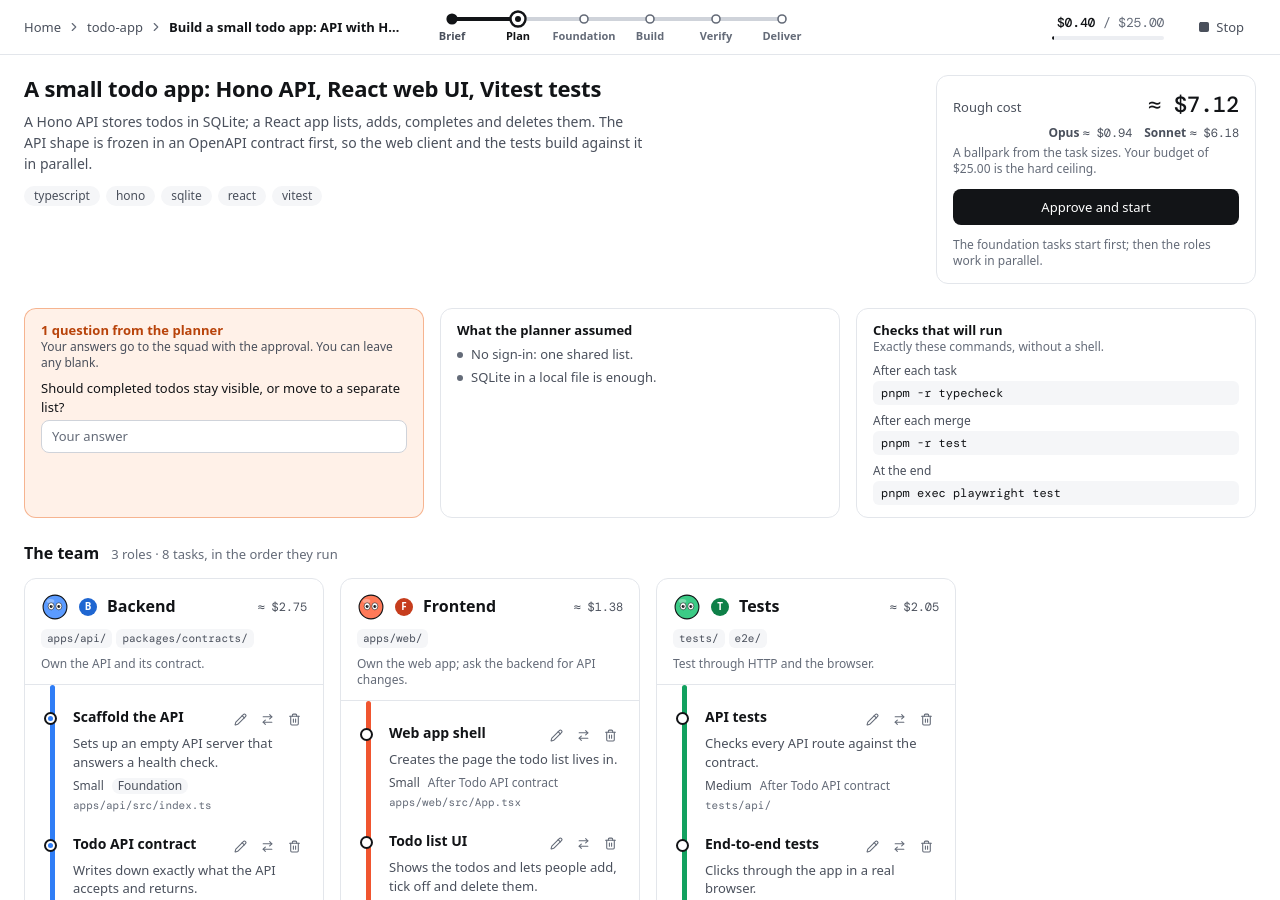
Test: Board › moves a task only to a role that owns its paths, and says why not
Click the button named "Move Todo list UI to another role" at (584, 844), box [571, 831, 596, 856]
(page scrolled)
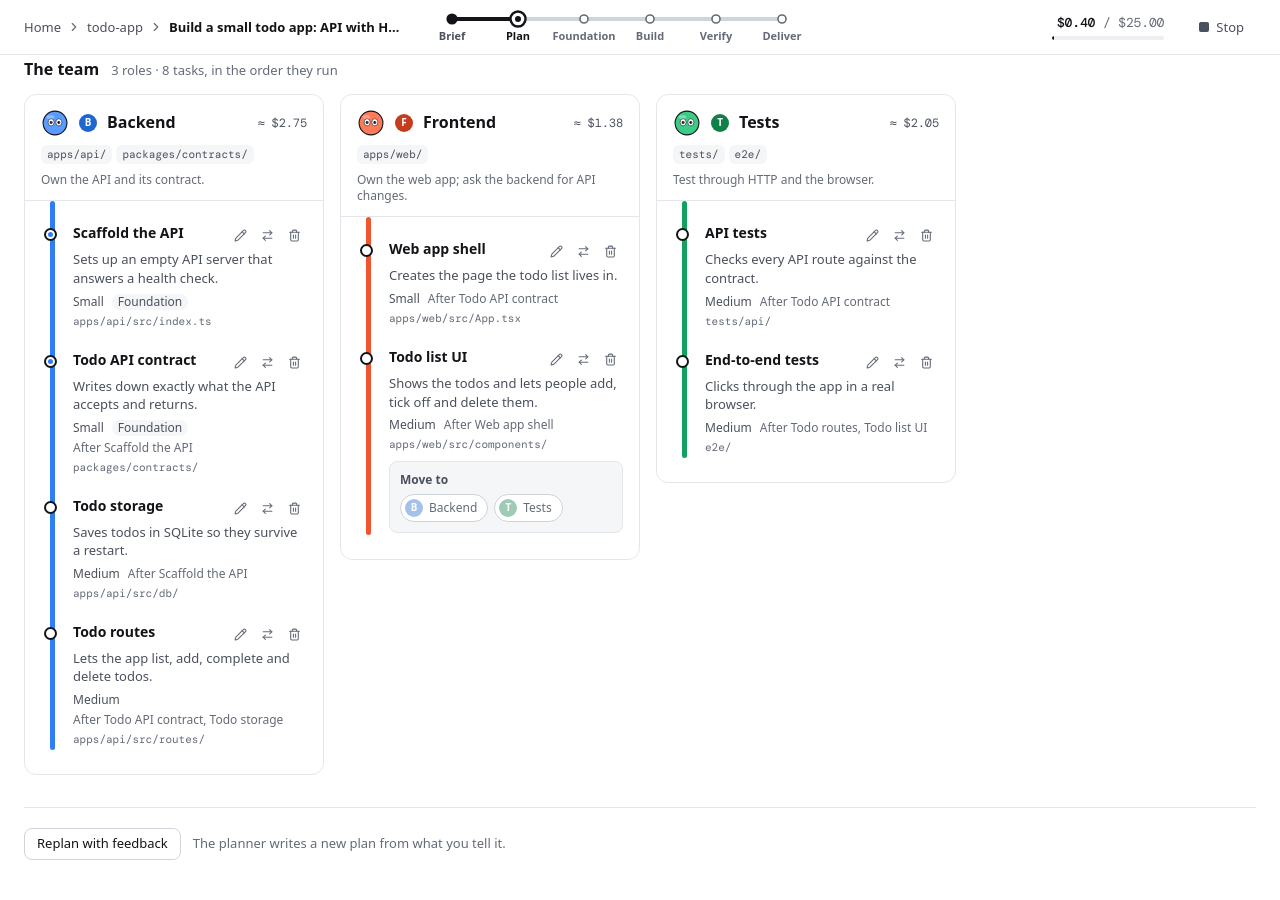
Click the button "B Backend" at (444, 508), box [400, 494, 488, 522]
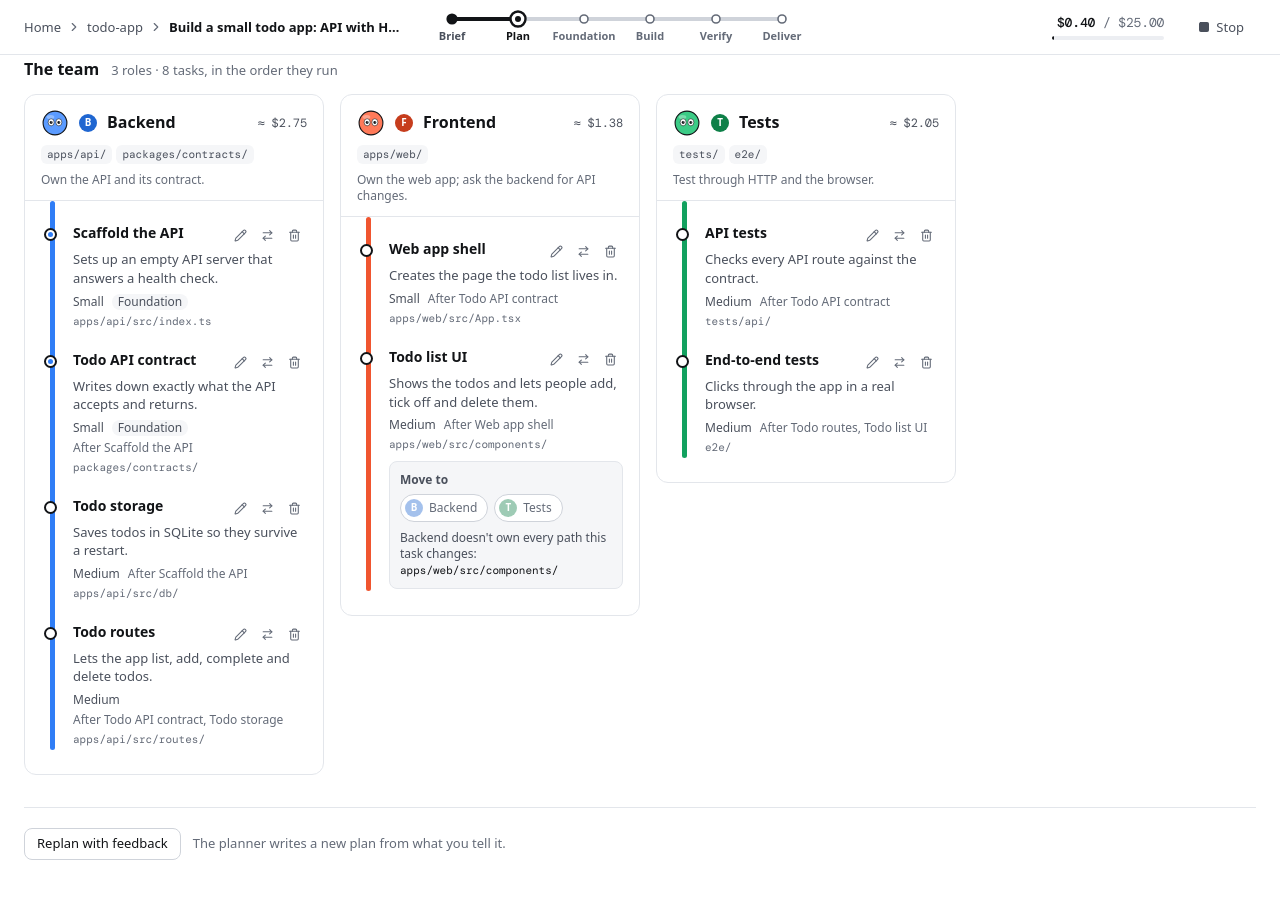
Now the text "Backend doesn't own every path this task changes: apps/web/src/components/" is shown, box [400, 530, 612, 578]
Now the text "apps/web/src/components/" below "Move to" is shown, box [400, 563, 558, 577]
